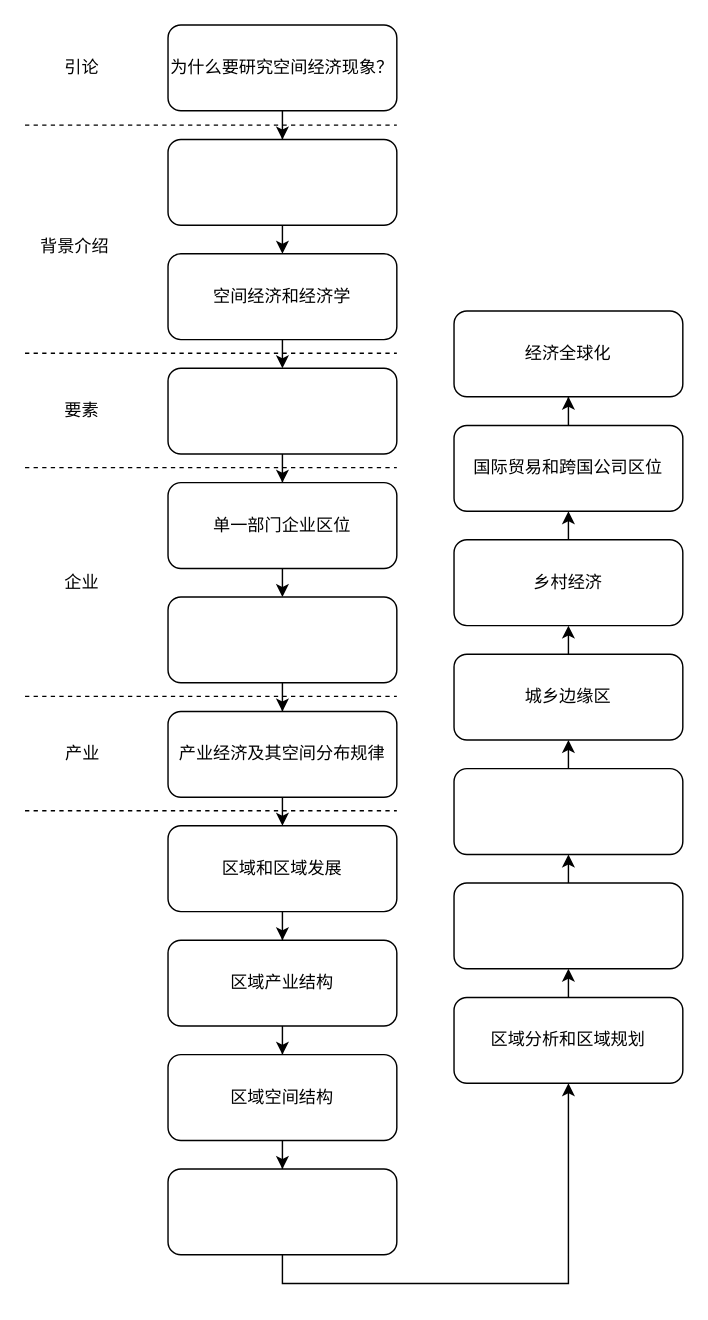
This 708x1320 diagram has some shape labels left out. Each missing label, with the box of its shape:
区域政策和区域治理: (453, 882, 683, 969)
区际空间组织: (167, 1168, 397, 1255)
城市经济: (453, 767, 683, 854)
多部门企业区位: (167, 596, 397, 683)
空间经济和地理学: (167, 138, 397, 225)
经济活动区位和影响因素: (167, 367, 397, 454)
